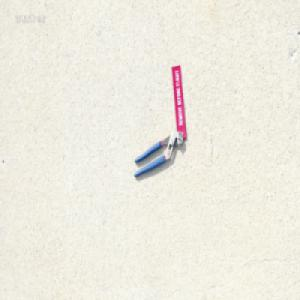Label: (171, 65, 187, 140)
Pliers: (133, 129, 183, 178)
